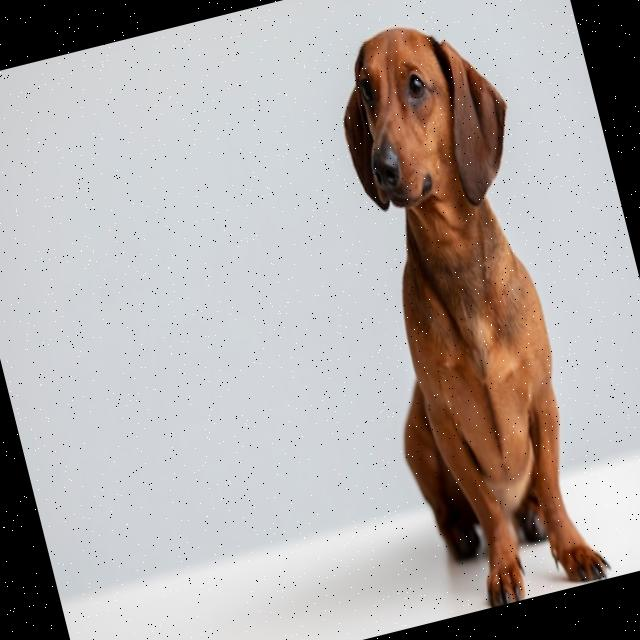Dog: (304, 3, 626, 618)
